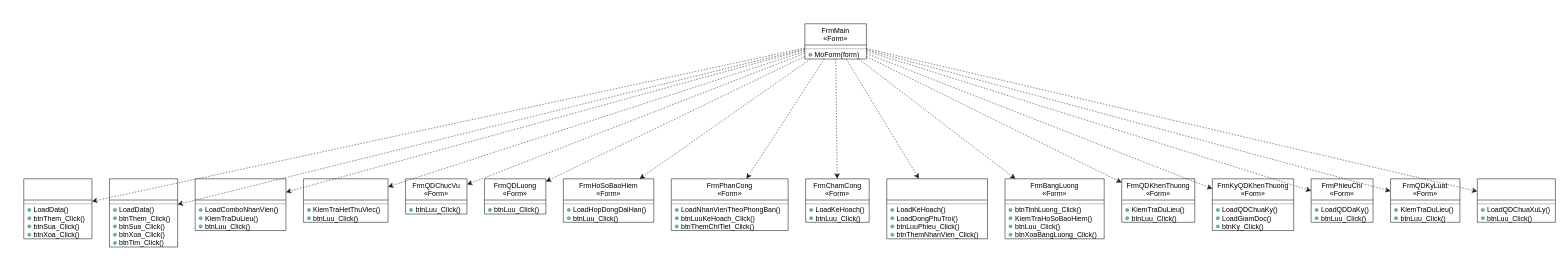
Image size: 1564x256. Some labels were removed from this diagram. The shapes that lost their labels are listed below. From the top down, each one's box as (x1, y1, x2, y2) in pixels, then its label:
(23, 178, 92, 239): FrmDanhMuc «Form»
(109, 178, 178, 247): FrmNhanVien «Form»
(195, 178, 286, 231): FrmQDTuyenDung «Form»
(303, 178, 388, 222): FrmHopDong «Form»
(886, 178, 988, 239): FrmPhuTroi «Form»
(1477, 178, 1555, 222): FrmPhieuThuPhat «Form»
